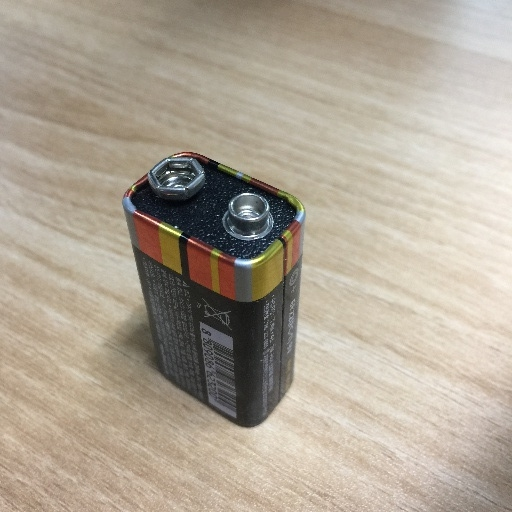Battery_3: (113, 137, 323, 438)
